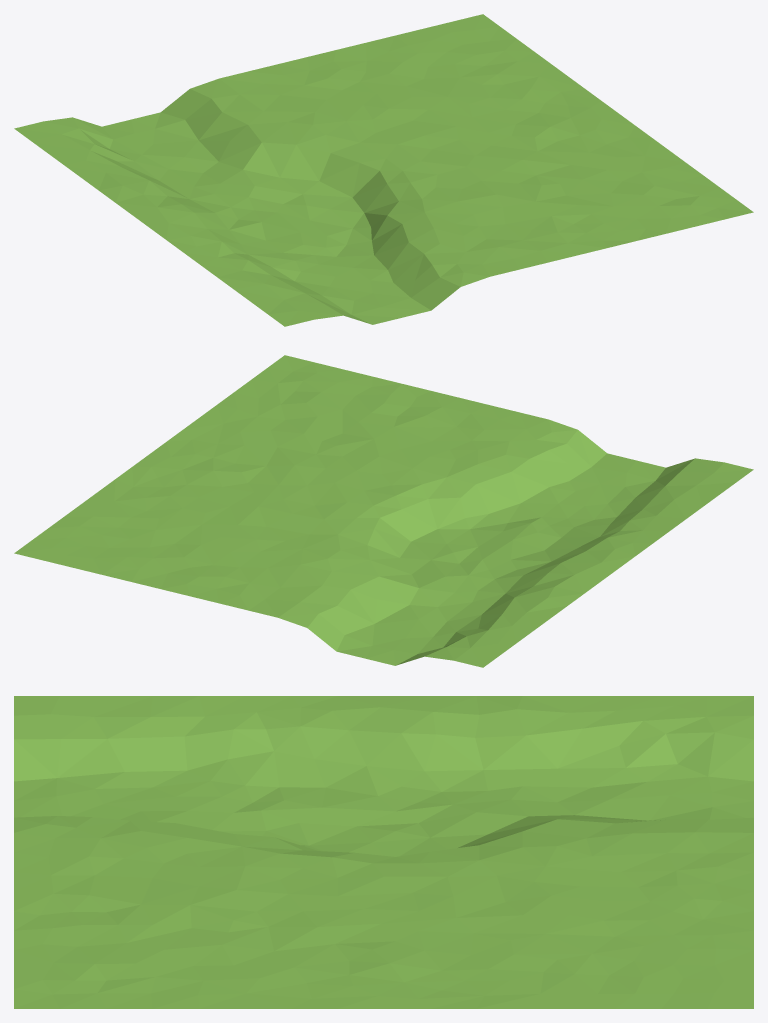
Rendered from MT_River_M_a_02.fbx.
3 renders of one model, top to bottom at view 1: azimuth 30°, elevation 25°; view 2: azimuth 150°, elevation 25°; view 3: azimuth 270°, elevation 25°, orthographic. The views are drawn at different scales.
Visible parts, largest first — view 1: MT_River_M_a_02; view 2: MT_River_M_a_02; view 3: MT_River_M_a_02.
Boxes of the visible parts, box(x1,y1,x2,y2) form: MT_River_M_a_02: box(14, 14, 753, 326); MT_River_M_a_02: box(14, 355, 753, 667); MT_River_M_a_02: box(14, 696, 753, 1008).
Size of the model in its own units: 5000 by 252 by 5000.
